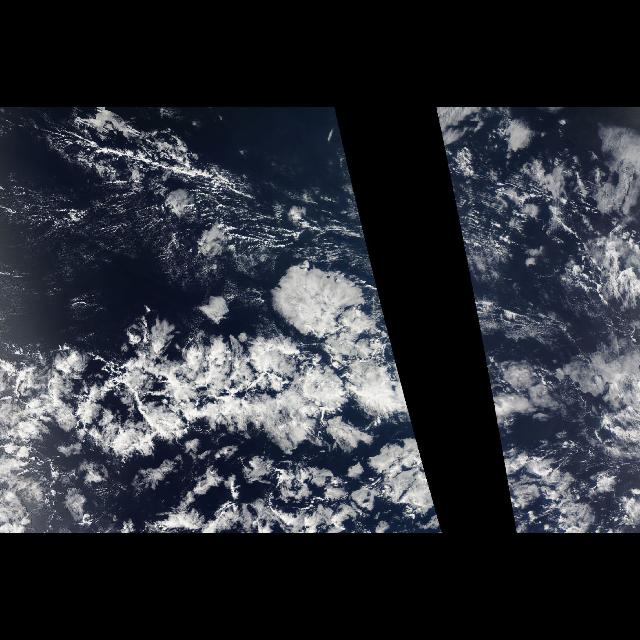Fish: (58, 352, 408, 526), (42, 117, 302, 255)
Flower: (8, 266, 442, 530)
